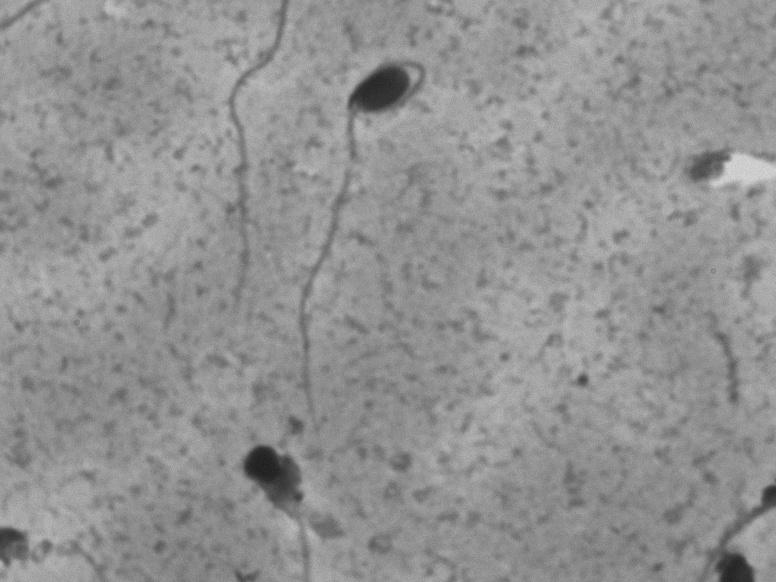Abnormal: (284, 31, 446, 429)
